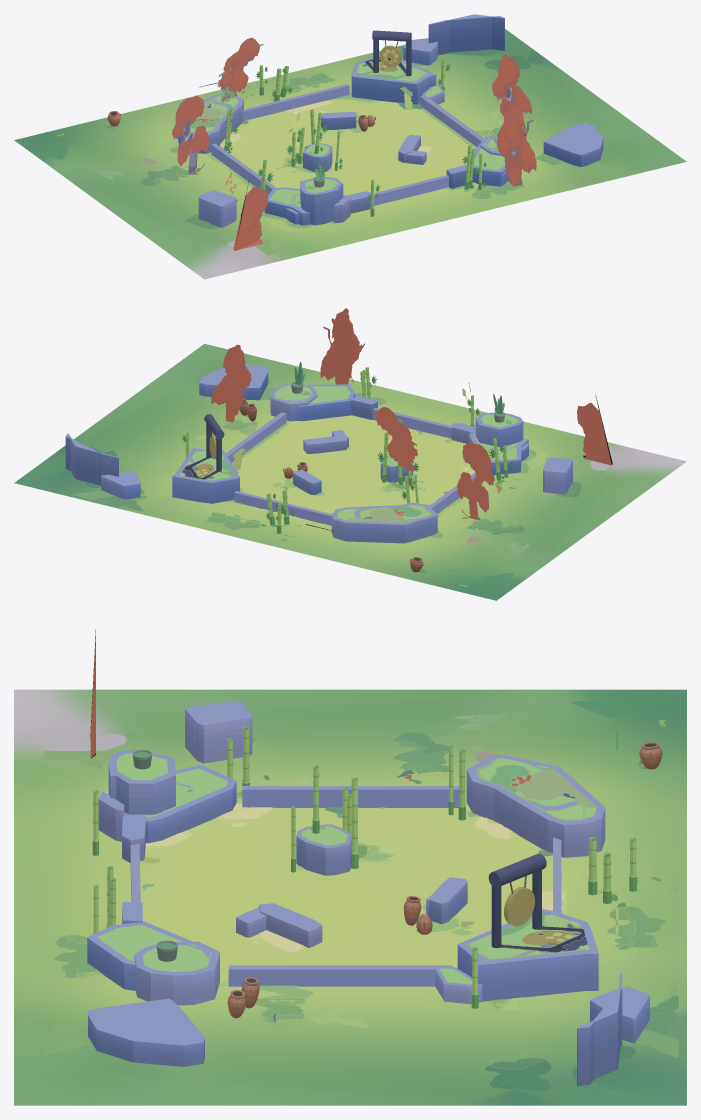
File: plaza.glb
3 renders of one model, top to bottom at view 1: azimuth 30°, elevation 25°; view 2: azimuth 150°, elevation 25°; view 3: azimuth 270°, elevation 25°, orthographic. The views are drawn at different scales.
Visible parts, largest first — view 1: GROUND, GROUND_SHAPES, STONE_plat_ne, STONE_boulder_ne2, CARD_tree_se, STONE_boulder_se, CARD_tree_w, STONE_plat_nw, STONE_plat_sw_hi, CARD_tree_sw, CARD_tree_nw, CARD_tree_e (+12 smaller); view 2: GROUND, GROUND_SHAPES, STONE_plat_nw, STONE_plat_ne, CARD_tree_se, CARD_tree_w, CARD_tree_e, STONE_boulder_ne2, STONE_plat_se, CARD_tree_sw, CARD_tree_nw, STONE_plat_sw_hi (+12 smaller); view 3: GROUND, GROUND_SHAPES, STONE_plat_nw, STONE_plat_ne, STONE_boulder_se, STONE_plat_se_hi, STONE_wall_e, STONE_wall_w, STONE_plat_sw, STONE_plat_sw_hi, STONE_boulder_w, STONE_plat_se (+9 smaller).
Boxes of the visible parts, x1,y1,x2,y2 form: GROUND: [14, 29, 686, 279]; GROUND_SHAPES: [53, 38, 619, 258]; STONE_plat_ne: [351, 55, 436, 104]; STONE_boulder_ne2: [428, 14, 504, 55]; CARD_tree_se: [491, 101, 536, 186]; STONE_boulder_se: [543, 122, 603, 166]; CARD_tree_w: [172, 95, 209, 173]; STONE_plat_nw: [178, 94, 243, 153]; STONE_plat_sw_hi: [300, 177, 343, 224]; CARD_tree_sw: [233, 179, 267, 250]; CARD_tree_nw: [217, 37, 263, 102]; CARD_tree_e: [492, 54, 532, 117]; GROUND: [14, 343, 686, 600]; GROUND_SHAPES: [26, 364, 619, 586]; STONE_plat_nw: [331, 503, 437, 543]; STONE_plat_ne: [172, 447, 239, 503]; CARD_tree_se: [320, 308, 365, 384]; CARD_tree_w: [457, 442, 494, 519]; CARD_tree_e: [211, 344, 251, 422]; STONE_boulder_ne2: [65, 433, 118, 485]; STONE_plat_se: [296, 384, 355, 421]; CARD_tree_sw: [577, 394, 612, 465]; CARD_tree_nw: [371, 407, 417, 471]; STONE_plat_sw_hi: [475, 412, 523, 447]; GROUND: [14, 689, 686, 1105]; GROUND_SHAPES: [44, 700, 678, 1099]; STONE_plat_nw: [466, 755, 605, 857]; STONE_plat_ne: [457, 909, 598, 1001]; STONE_boulder_se: [88, 998, 204, 1066]; STONE_plat_se_hi: [134, 941, 219, 1005]; STONE_wall_e: [228, 965, 452, 986]; STONE_wall_w: [242, 786, 459, 807]; STONE_plat_sw: [124, 764, 236, 843]; STONE_plat_sw_hi: [108, 750, 175, 814]; STONE_boulder_w: [185, 701, 252, 763]; STONE_plat_se: [87, 921, 192, 990].
Size of the model in its own units: 88.5 by 19.39 by 60.5.
